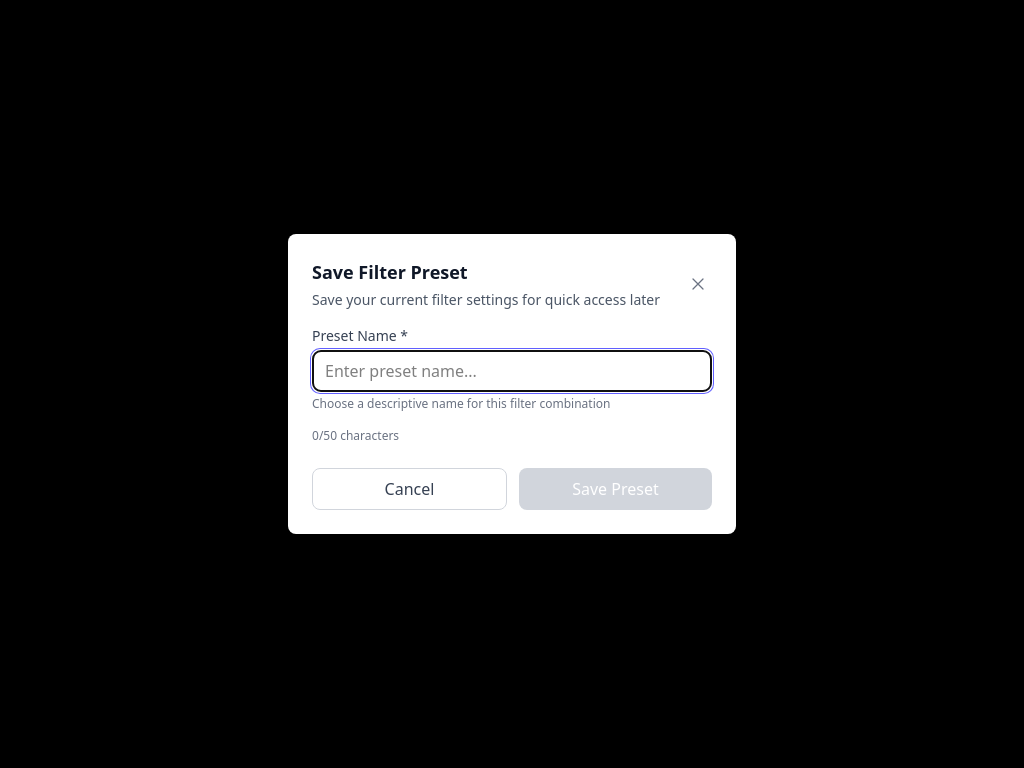
Test: SavePresetModal › Rendering › updates character counter as user types
Type "Test" into the field labelled "Preset Name *" at (512, 371), box [312, 350, 712, 392]
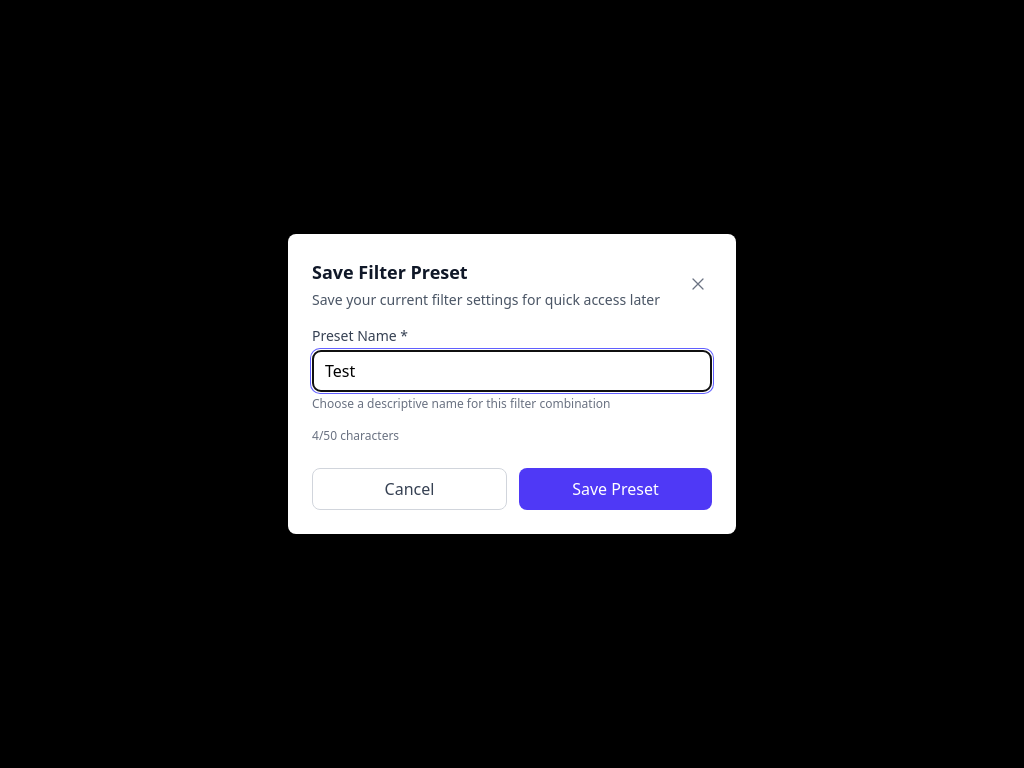
Expected: the text "4/50 characters" is shown, [312, 427, 399, 444]
